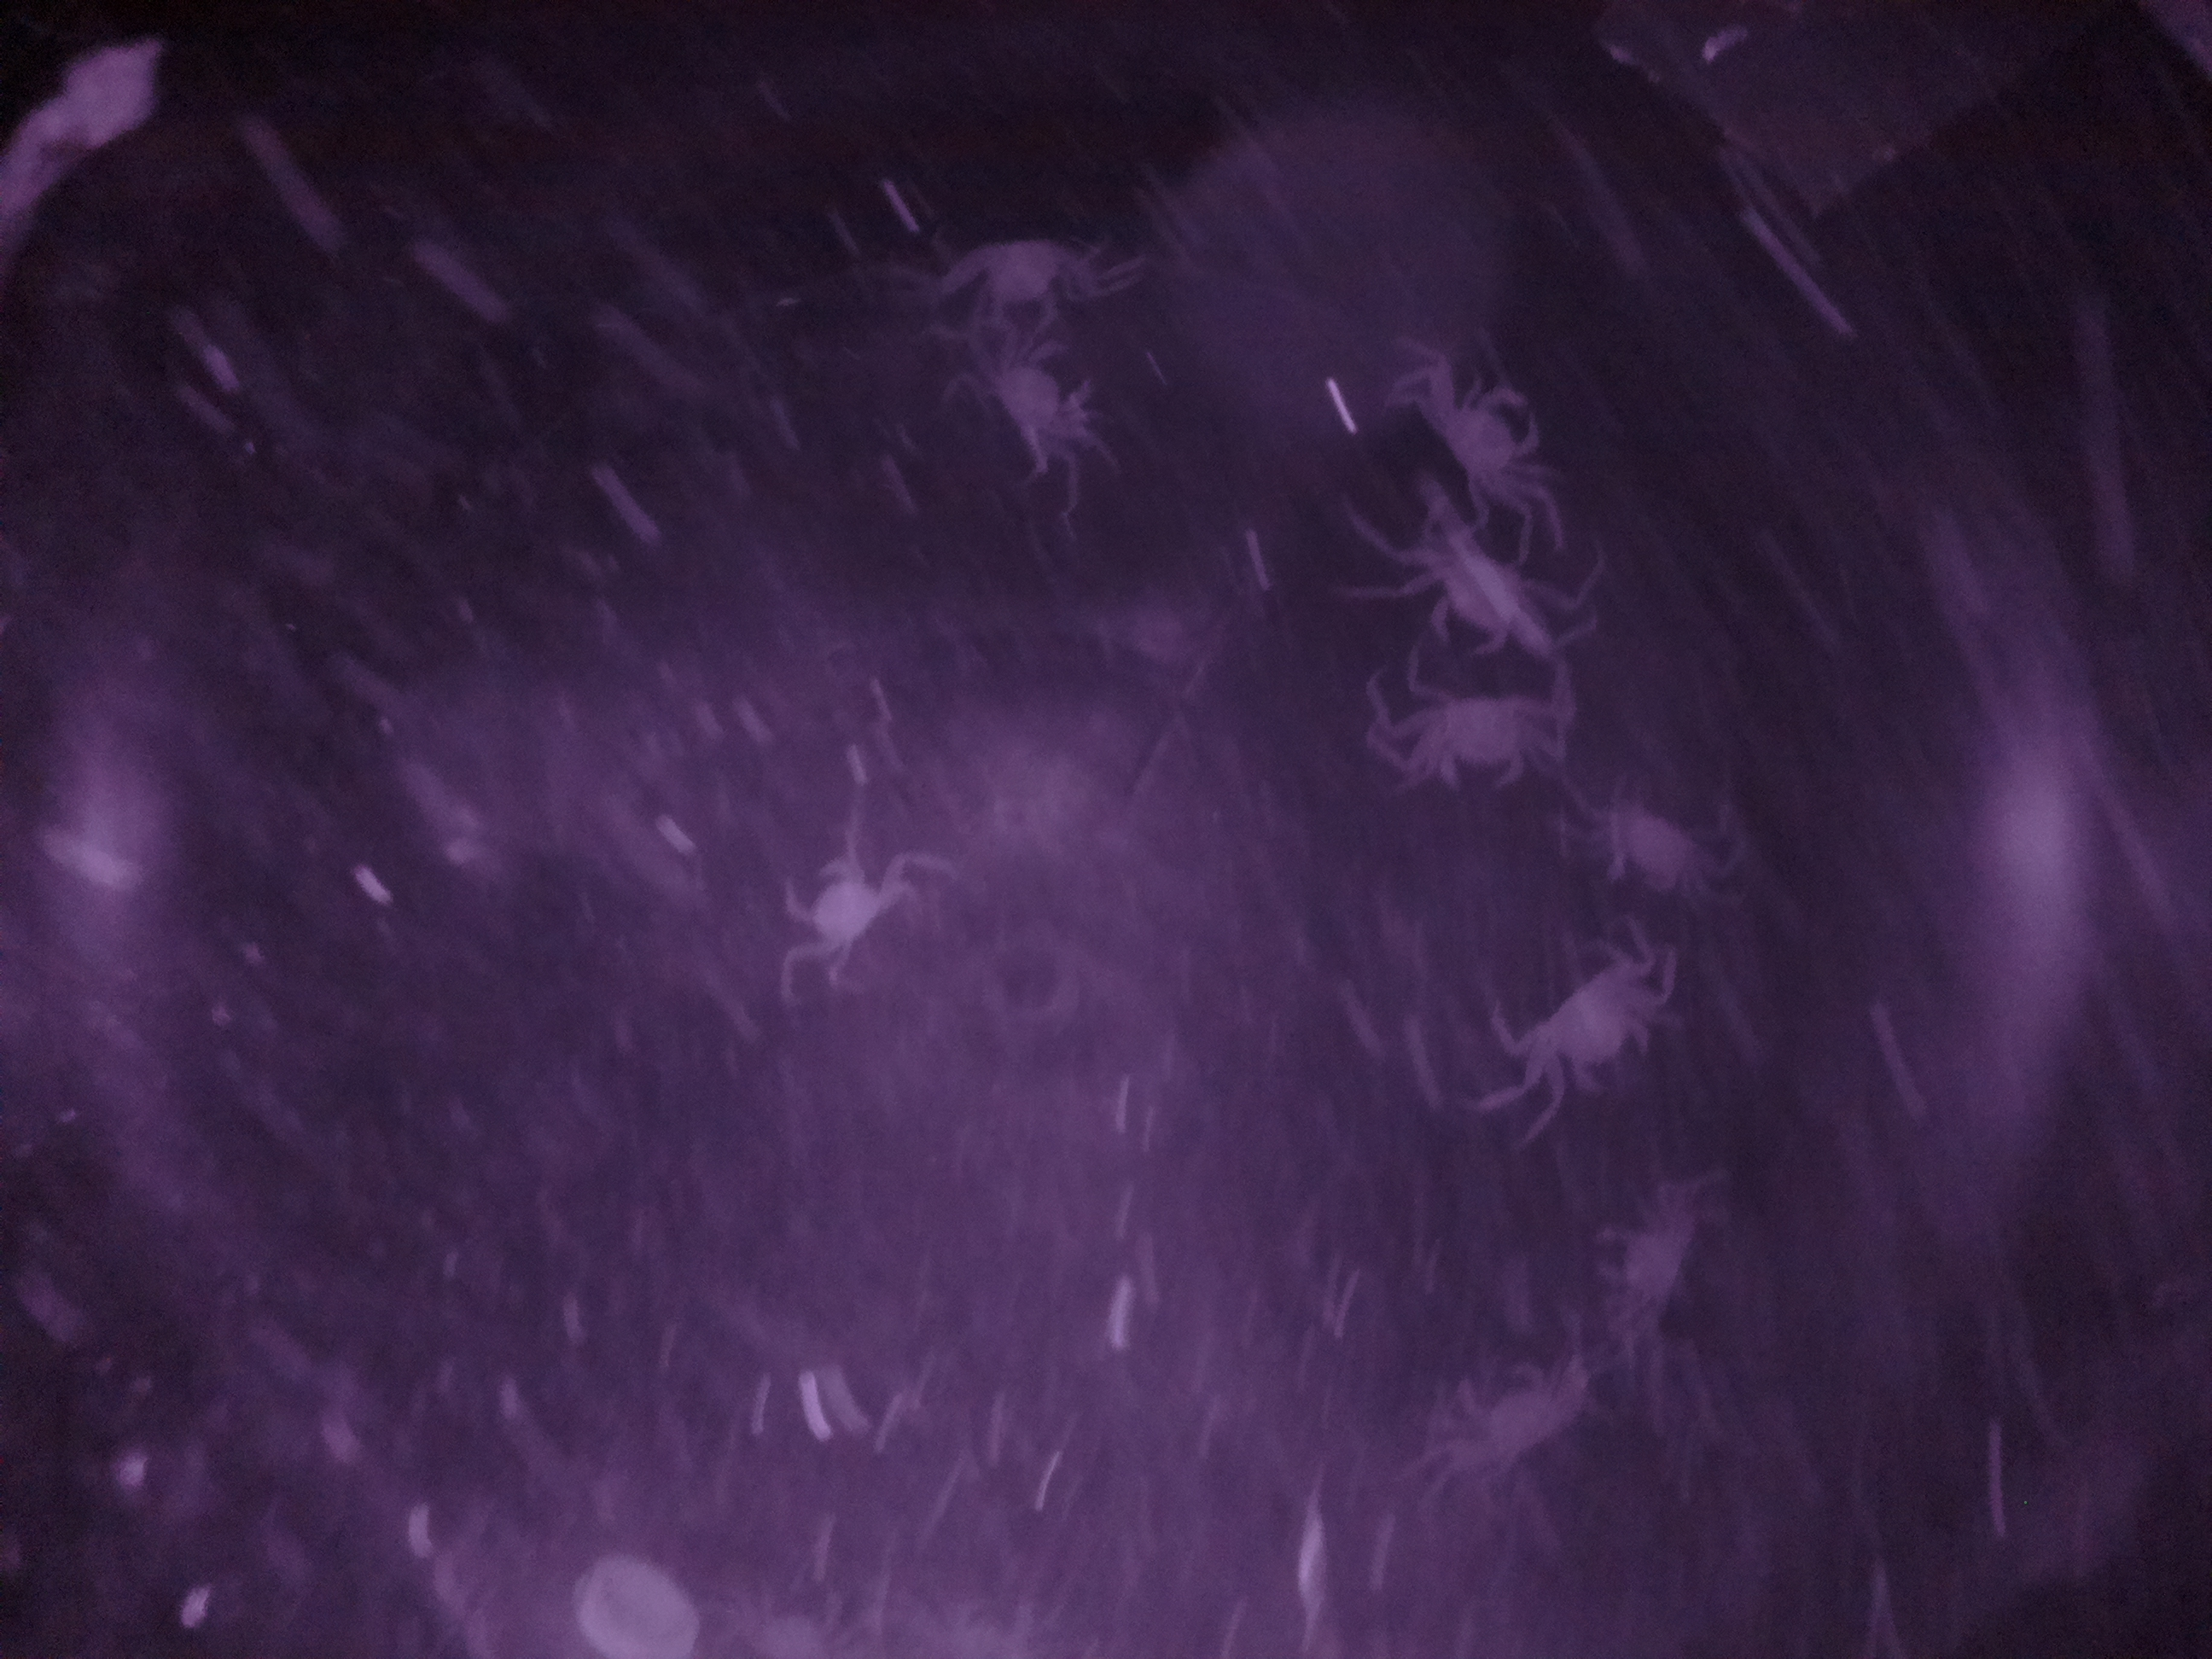Crab: (1501, 943, 1683, 1107), (1404, 533, 1562, 664), (1420, 364, 1555, 507)
